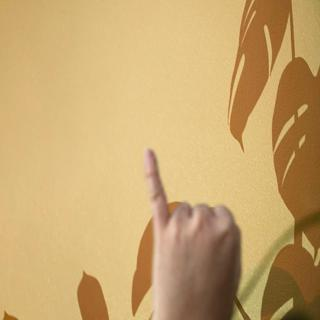FINE: (140, 147, 248, 317)
